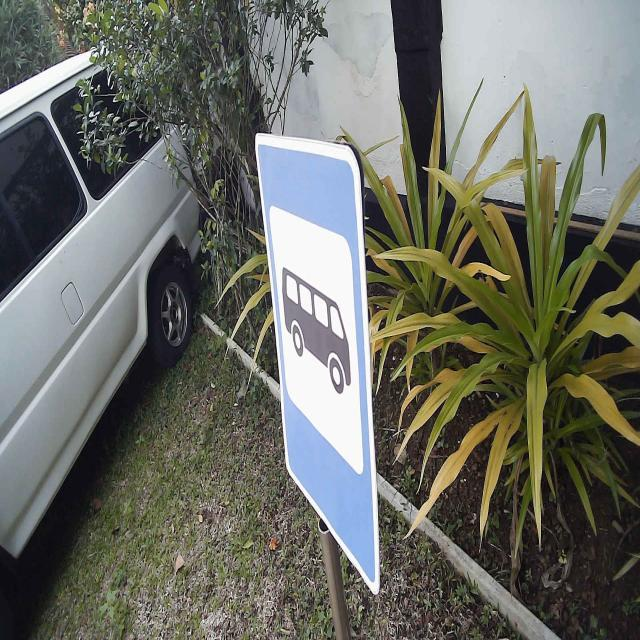bus_stop: (253, 132, 382, 598)
